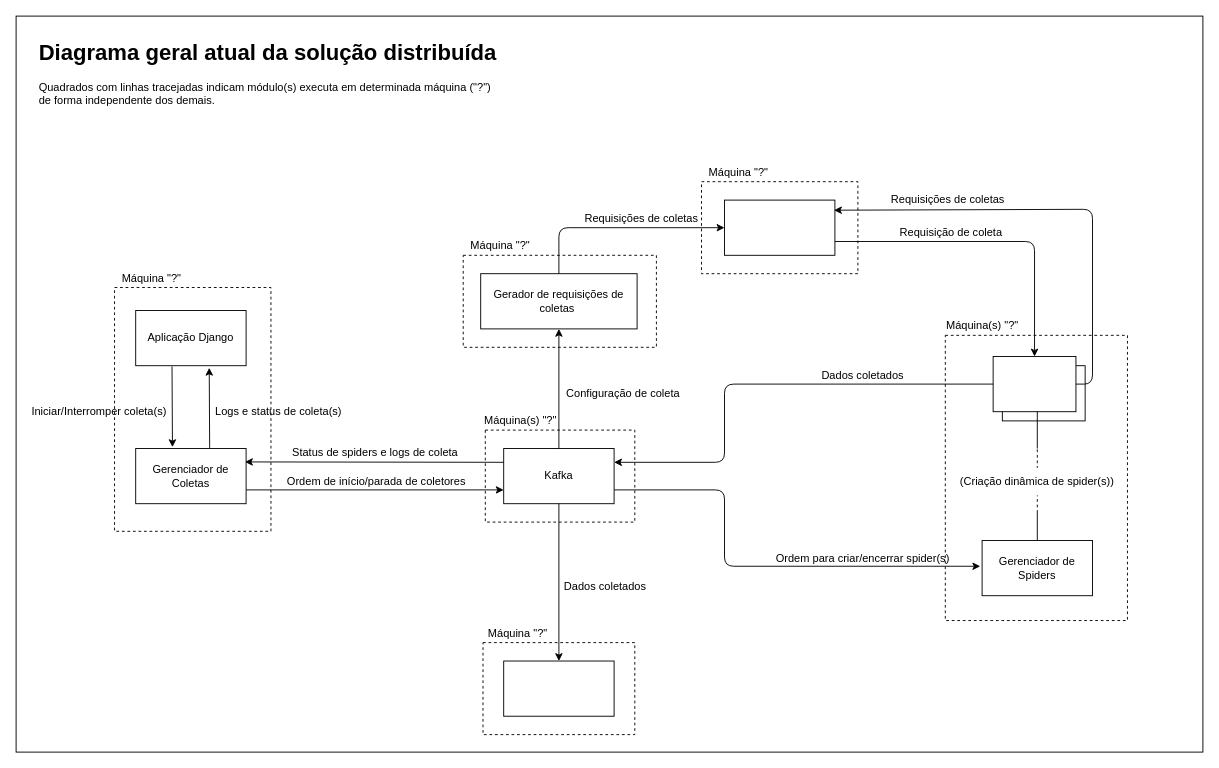
Some shapes in this 1219 by 768 pixel diagram are drawn without their labels. The centre of each missing label's shape, as x and y in pixels:
Escritor: the point at 558,688
Redis: the point at 779,227
Spider(s): the point at 1034,384
